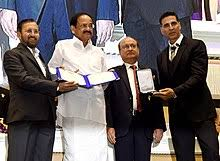Bad: (109, 11, 218, 161), (56, 12, 159, 161), (4, 11, 106, 161)
